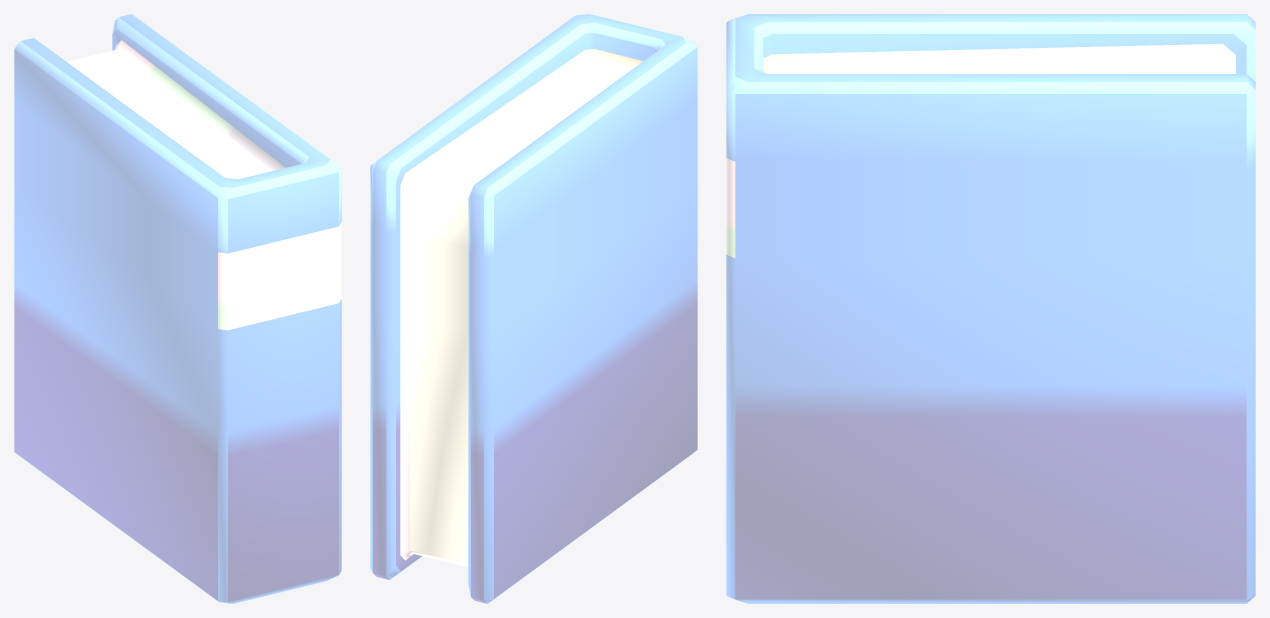
Rendered from book1.gltf.
3 renders of one model, left to right at view 1: azimuth 30°, elevation 25°; view 2: azimuth 150°, elevation 25°; view 3: azimuth 270°, elevation 25°, orthographic. The views are drawn at different scales.
Visible parts, largest first — view 1: book_13; view 2: book_13; view 3: book_13.
Boxes of the visible parts, x1,y1,x2,y2 form: book_13: [14, 14, 341, 603]; book_13: [370, 14, 697, 603]; book_13: [726, 14, 1255, 603].
Size of the model in its own units: 0.0665 by 0.214 by 0.1968.
Materials: 1 (1 with a texture image).
